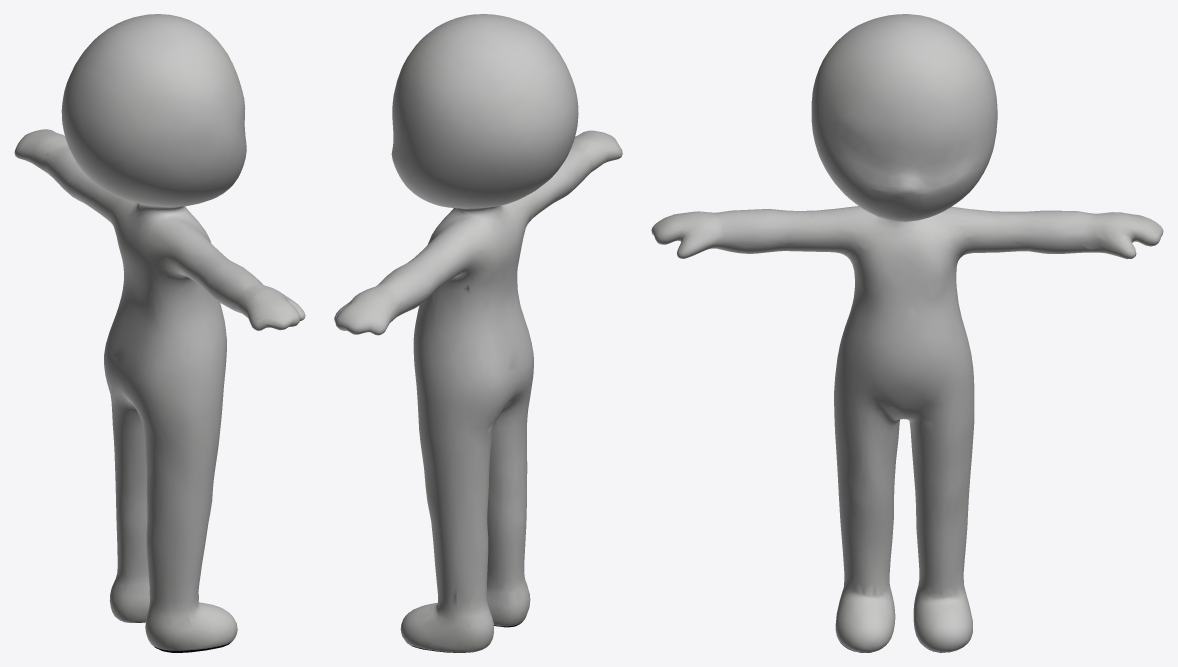
File: character_lowpoly.fbx
3 views of the same model, side by side, from view 1: azimuth 30°, elevation 25°; view 2: azimuth 150°, elevation 25°; view 3: azimuth 270°, elevation 25° (orthographic).
Visible parts, largest first — view 1: tripo_node_470ed0e0; view 2: tripo_node_470ed0e0; view 3: tripo_node_470ed0e0.
Part boxes in pixels (bbox=[...]): tripo_node_470ed0e0: bbox=[14, 14, 305, 652]; tripo_node_470ed0e0: bbox=[334, 14, 622, 652]; tripo_node_470ed0e0: bbox=[651, 14, 1163, 652].
Size of the model in its own units: 0.282 by 0.9999 by 0.7647.
1 material, 1 textured.
